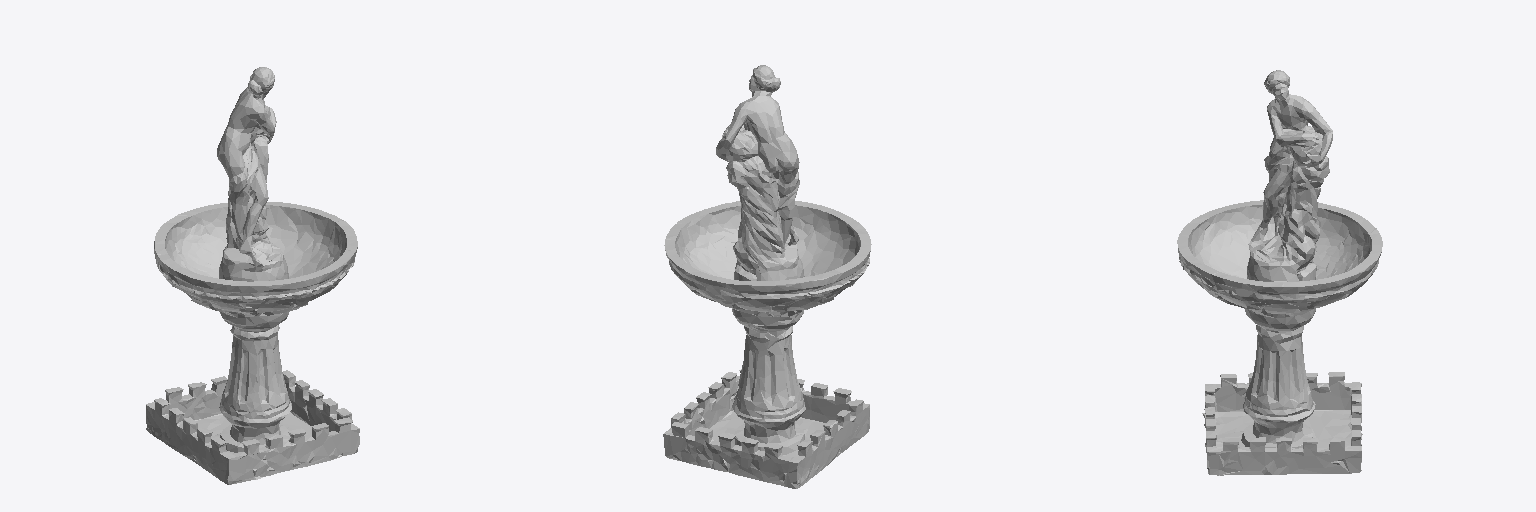
3 renders of one model, left to right at view 1: azimuth 30°, elevation 25°; view 2: azimuth 150°, elevation 25°; view 3: azimuth 270°, elevation 25°, orthographic.
Parts seen in each view (by area): view 1: GardenStatue; view 2: GardenStatue; view 3: GardenStatue.
Part boxes in pixels (bbox=[...]): GardenStatue: bbox=[146, 67, 359, 484]; GardenStatue: bbox=[663, 65, 871, 488]; GardenStatue: bbox=[1177, 70, 1382, 475].
Size of the model in its own units: 12.3 by 24.52 by 12.21.